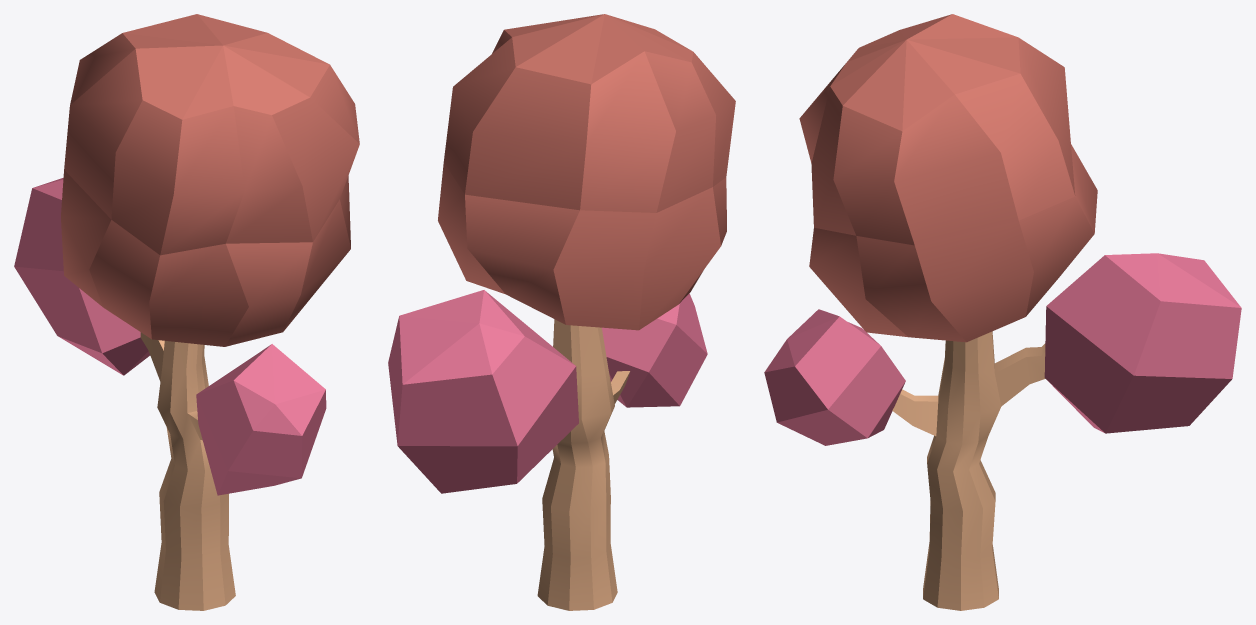
Rendered from tree06.fbx.
The picture shows the model from 3 angles, left to right: view 1: azimuth 30°, elevation 25°; view 2: azimuth 150°, elevation 25°; view 3: azimuth 270°, elevation 25°; orthographic projection. The views are drawn at different scales.
Visible parts, largest first — view 1: group2, pCylinder2, pSphere2, pSphere1; view 2: group2, pSphere1, pCylinder2, pSphere2; view 3: group2, pSphere1, pCylinder2, pSphere2.
Boxes of the visible parts, <box> form: group2: <box>61,14,359,346</box>; pCylinder2: <box>140,332,235,610</box>; pSphere2: <box>196,344,326,495</box>; pSphere1: <box>14,177,150,375</box>; group2: <box>438,14,735,330</box>; pSphere1: <box>388,290,578,493</box>; pCylinder2: <box>537,319,630,610</box>; pSphere2: <box>602,293,707,407</box>; group2: <box>799,14,1097,342</box>; pSphere1: <box>1044,253,1241,433</box>; pCylinder2: <box>892,331,1045,610</box>; pSphere2: <box>764,309,905,445</box>.
Size of the model in its own units: 235 by 495 by 387.
